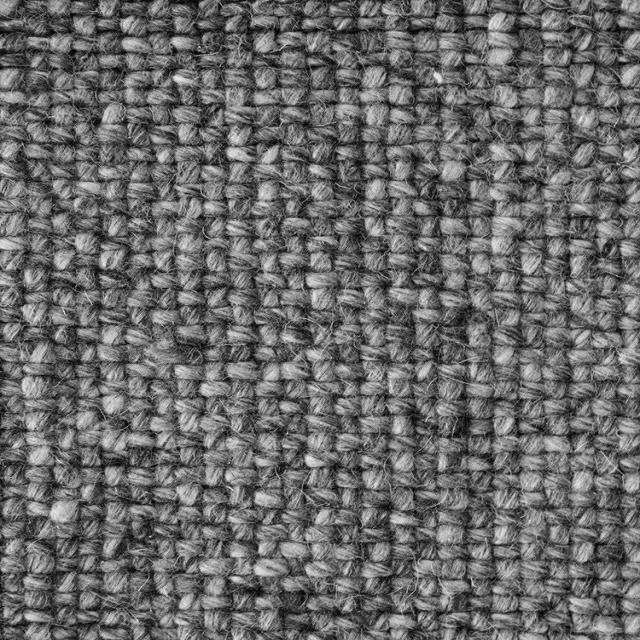Knot: (226, 252, 260, 272), (98, 124, 129, 144), (225, 361, 257, 380), (332, 324, 362, 344), (174, 324, 204, 344), (490, 83, 516, 106), (439, 252, 468, 272), (488, 142, 517, 162), (250, 558, 286, 574), (518, 254, 544, 276), (570, 142, 596, 164), (50, 500, 78, 520), (22, 376, 50, 396), (281, 324, 309, 344), (174, 250, 202, 270), (540, 162, 568, 182), (542, 86, 570, 106), (489, 162, 517, 182), (358, 30, 386, 50), (280, 160, 308, 180), (332, 104, 360, 124), (98, 104, 126, 124), (566, 218, 595, 237), (308, 68, 334, 89), (150, 124, 176, 145), (438, 217, 470, 234), (22, 554, 52, 572), (224, 539, 254, 557), (440, 488, 467, 508), (306, 488, 336, 506), (252, 488, 282, 506), (438, 470, 468, 488), (223, 467, 253, 485), (24, 465, 54, 483), (360, 416, 390, 434), (278, 414, 308, 432), (144, 343, 174, 361), (26, 342, 53, 362), (491, 326, 518, 346), (124, 252, 154, 270), (386, 216, 416, 234), (570, 104, 597, 124), (514, 64, 541, 84), (227, 124, 254, 144), (441, 289, 469, 308), (227, 287, 255, 306), (332, 251, 360, 270), (491, 216, 519, 235), (224, 105, 252, 124), (224, 68, 252, 87), (0, 498, 24, 520), (570, 64, 592, 88), (565, 277, 596, 294), (280, 396, 309, 414), (541, 124, 570, 142), (226, 486, 252, 506), (306, 468, 332, 488), (0, 342, 26, 362), (306, 250, 332, 270), (490, 122, 516, 142), (440, 161, 466, 181), (385, 159, 411, 179), (362, 104, 388, 124), (0, 104, 27, 123), (357, 508, 389, 524), (307, 380, 339, 396), (411, 308, 443, 324), (302, 200, 334, 216), (434, 525, 464, 542), (435, 363, 465, 380), (252, 306, 282, 323), (74, 571, 98, 592), (542, 544, 570, 562), (492, 490, 520, 508), (176, 484, 200, 505), (334, 470, 362, 488), (308, 451, 336, 469), (438, 435, 466, 453), (226, 431, 254, 449), (438, 416, 466, 434), (542, 398, 570, 416), (438, 344, 466, 362), (306, 344, 334, 362), (592, 330, 620, 348), (307, 288, 335, 306), (176, 288, 204, 306), (98, 270, 126, 288), (543, 254, 567, 275), (490, 255, 518, 273), (278, 252, 306, 270), (517, 236, 545, 254), (97, 233, 125, 251), (100, 198, 128, 216), (543, 66, 571, 84), (252, 163, 280, 181), (282, 123, 306, 144), (176, 123, 200, 144), (122, 324, 147, 344), (568, 254, 593, 274), (464, 104, 489, 124), (0, 68, 25, 88), (174, 396, 205, 412), (279, 362, 310, 378), (74, 305, 100, 324), (568, 29, 594, 48), (517, 29, 543, 48), (388, 124, 414, 143), (332, 31, 358, 50), (361, 490, 390, 507), (491, 434, 518, 452), (0, 33, 27, 51), (254, 467, 277, 488), (616, 66, 639, 87), (304, 560, 334, 576), (198, 558, 228, 574), (98, 556, 128, 572), (360, 542, 390, 558), (253, 524, 285, 539), (227, 508, 257, 524), (24, 500, 48, 520), (201, 486, 225, 506), (519, 470, 543, 490), (568, 432, 592, 452), (198, 380, 228, 396), (466, 324, 490, 344), (24, 304, 48, 324), (492, 291, 522, 307), (308, 272, 338, 288), (0, 250, 24, 270), (306, 234, 336, 250), (74, 196, 98, 216), (484, 48, 514, 64), (464, 66, 488, 86), (438, 65, 462, 85), (414, 140, 438, 160), (256, 180, 280, 200), (176, 182, 206, 198), (224, 146, 254, 162), (69, 0, 99, 16), (278, 541, 306, 558), (24, 411, 52, 428), (569, 182, 594, 201), (0, 213, 25, 232), (152, 163, 177, 182), (466, 542, 492, 560), (332, 542, 358, 560), (0, 520, 26, 538), (128, 504, 154, 522), (280, 468, 306, 486), (126, 466, 152, 484), (388, 452, 414, 470), (493, 398, 519, 416), (387, 395, 413, 413), (334, 396, 360, 414), (228, 396, 254, 414), (410, 378, 436, 396), (438, 325, 464, 343), (386, 325, 412, 343), (362, 252, 388, 270), (98, 252, 124, 270), (542, 218, 568, 236), (334, 216, 360, 234), (542, 184, 568, 202), (542, 48, 568, 66), (490, 182, 516, 200), (440, 124, 466, 142), (438, 104, 464, 122), (438, 86, 464, 104), (413, 162, 439, 180), (280, 180, 306, 198), (0, 178, 26, 196), (335, 161, 361, 179), (50, 162, 76, 180), (24, 160, 50, 178), (306, 106, 332, 124), (74, 144, 100, 162), (250, 32, 276, 50), (120, 16, 146, 34), (304, 524, 333, 540), (125, 362, 154, 378), (225, 344, 254, 360), (227, 326, 256, 342), (226, 182, 255, 198), (310, 323, 332, 344), (594, 66, 615, 88), (412, 558, 435, 578), (546, 470, 569, 490), (468, 470, 491, 490), (0, 463, 23, 483), (206, 324, 229, 344), (98, 324, 121, 344), (0, 304, 23, 324), (73, 232, 96, 252), (518, 86, 541, 106), (362, 178, 385, 198), (311, 161, 334, 181), (388, 435, 415, 452), (280, 432, 307, 449), (591, 364, 618, 381), (126, 234, 153, 251), (384, 68, 411, 85), (126, 181, 153, 198), (278, 590, 302, 609), (152, 288, 176, 307), (621, 139, 640, 163), (360, 216, 384, 235), (517, 181, 541, 200), (412, 31, 436, 50), (255, 105, 279, 124), (50, 105, 74, 124), (569, 507, 594, 525), (570, 472, 595, 490), (363, 470, 388, 488), (544, 452, 569, 470), (28, 446, 53, 464), (543, 434, 568, 452), (362, 434, 387, 452), (467, 416, 492, 434), (467, 397, 492, 415), (492, 346, 517, 364), (149, 308, 179, 323), (521, 276, 546, 294), (149, 270, 174, 288), (388, 252, 413, 270), (491, 236, 516, 254), (26, 234, 51, 252), (228, 198, 253, 216), (177, 198, 202, 216), (414, 122, 439, 140), (0, 141, 25, 159), (222, 51, 252, 66), (284, 614, 312, 630), (570, 526, 598, 542), (358, 526, 390, 540), (492, 508, 520, 524), (309, 416, 337, 432), (150, 414, 178, 430), (438, 398, 466, 414), (542, 364, 570, 380), (204, 306, 232, 322), (414, 271, 442, 287), (20, 272, 48, 288), (568, 238, 596, 254), (412, 234, 440, 250), (438, 200, 466, 216), (540, 13, 568, 29), (491, 106, 519, 122), (487, 31, 515, 47), (488, 13, 516, 29), (438, 182, 466, 198), (437, 48, 465, 64), (436, 32, 464, 48), (386, 181, 414, 197), (74, 181, 102, 197), (276, 146, 308, 160), (280, 70, 308, 86), (278, 33, 306, 49), (334, 560, 360, 577), (436, 380, 462, 397), (412, 345, 438, 362), (283, 306, 309, 323), (595, 184, 621, 201), (282, 217, 308, 234), (254, 218, 280, 235), (334, 142, 360, 159), (0, 377, 21, 398), (201, 464, 223, 484), (154, 464, 176, 484), (596, 452, 618, 472), (520, 325, 542, 345), (416, 324, 438, 344), (150, 323, 172, 343), (617, 28, 639, 48), (361, 66, 383, 86), (228, 162, 250, 182), (178, 162, 200, 182), (76, 104, 98, 124), (200, 67, 222, 87), (98, 33, 120, 53), (596, 489, 619, 508), (391, 488, 414, 507), (49, 305, 72, 324), (463, 382, 494, 396), (102, 574, 126, 592), (570, 542, 594, 560), (412, 541, 436, 559), (151, 522, 178, 538), (152, 486, 176, 504), (494, 471, 518, 489), (176, 465, 200, 483), (54, 465, 78, 483), (570, 453, 594, 471), (492, 452, 516, 470), (414, 452, 438, 470), (78, 448, 102, 466), (594, 432, 618, 450), (334, 434, 361, 450), (308, 432, 332, 450), (254, 431, 278, 449), (78, 430, 102, 448), (77, 411, 101, 429), (360, 396, 384, 414), (100, 360, 124, 378), (596, 296, 620, 314), (416, 288, 440, 306), (280, 288, 304, 306), (126, 288, 150, 306), (24, 251, 48, 269), (442, 234, 466, 252), (616, 164, 640, 182), (72, 216, 99, 232), (440, 142, 464, 160), (386, 32, 410, 50), (360, 142, 384, 160), (308, 180, 332, 198), (308, 34, 332, 52), (282, 50, 306, 68), (50, 125, 74, 143), (200, 104, 224, 122), (224, 88, 251, 104), (254, 68, 278, 86), (198, 32, 222, 50), (148, 34, 172, 52), (48, 34, 72, 52), (72, 16, 96, 34), (150, 557, 175, 574), (520, 525, 545, 542), (0, 412, 25, 429), (496, 380, 521, 397), (387, 288, 412, 305), (495, 274, 520, 291), (172, 594, 200, 609), (386, 578, 414, 593), (127, 570, 148, 590), (436, 509, 464, 524), (278, 510, 308, 524), (172, 364, 202, 378), (24, 362, 54, 376), (360, 345, 388, 360), (360, 308, 388, 323), (254, 272, 282, 287), (597, 104, 618, 124), (254, 201, 282, 216), (220, 0, 250, 14), (104, 502, 126, 521), (470, 251, 489, 273), (204, 251, 226, 270), (414, 104, 436, 123), (76, 124, 98, 143), (22, 608, 48, 624), (438, 543, 464, 559), (124, 539, 150, 555), (492, 526, 518, 542), (100, 522, 126, 538), (466, 509, 492, 525), (569, 491, 595, 507), (518, 453, 544, 469), (229, 450, 255, 466), (154, 448, 180, 464), (0, 447, 26, 463), (492, 416, 518, 432), (386, 362, 412, 378), (24, 325, 50, 341), (494, 308, 520, 324), (569, 294, 595, 310), (442, 272, 468, 288), (594, 258, 620, 274), (176, 234, 202, 250), (568, 202, 594, 218), (227, 218, 253, 234), (127, 164, 153, 180), (302, 0, 328, 16), (280, 106, 306, 122), (0, 124, 26, 140), (173, 106, 199, 122), (253, 88, 279, 104), (76, 538, 99, 556), (337, 488, 360, 506), (103, 466, 126, 484), (180, 447, 203, 465), (519, 434, 542, 452), (617, 416, 640, 434), (104, 413, 127, 431), (310, 396, 333, 414), (73, 342, 96, 360), (571, 311, 594, 329), (339, 288, 362, 306), (50, 270, 73, 288), (27, 196, 50, 214), (413, 66, 436, 84), (389, 106, 412, 124), (388, 86, 411, 104), (202, 164, 225, 182), (149, 104, 172, 122), (26, 70, 49, 88), (147, 16, 170, 34), (522, 614, 546, 631), (595, 544, 619, 561), (78, 502, 102, 519), (441, 453, 465, 470), (337, 451, 361, 468), (282, 450, 306, 467), (334, 344, 358, 361), (177, 270, 201, 287), (414, 253, 438, 270), (128, 199, 152, 216), (544, 144, 568, 161), (336, 181, 360, 198), (102, 144, 126, 161), (202, 124, 226, 141), (172, 68, 196, 85), (48, 53, 72, 70), (278, 575, 307, 589), (253, 381, 282, 395), (306, 90, 335, 104), (493, 614, 520, 629), (620, 472, 640, 492), (467, 453, 492, 469), (202, 414, 227, 430), (591, 398, 616, 414), (364, 324, 384, 344), (258, 324, 278, 344), (596, 274, 616, 294), (363, 271, 388, 287), (614, 48, 639, 64), (598, 142, 618, 162), (388, 50, 413, 66), (335, 52, 360, 68), (27, 143, 52, 159), (130, 124, 150, 144), (199, 88, 224, 104), (251, 14, 276, 30), (0, 52, 25, 68), (620, 236, 639, 257), (548, 614, 570, 632), (176, 556, 198, 574), (334, 524, 356, 542), (28, 520, 50, 538), (282, 488, 304, 506), (468, 434, 490, 452), (54, 429, 76, 447), (392, 416, 414, 434), (126, 412, 148, 430), (520, 398, 542, 416), (414, 396, 436, 414), (21, 398, 54, 410), (52, 376, 74, 394), (468, 362, 490, 380), (258, 362, 280, 380), (122, 344, 144, 362), (570, 330, 592, 348), (546, 328, 568, 346), (204, 288, 226, 306), (102, 288, 124, 306), (52, 250, 74, 268), (520, 218, 542, 236), (28, 214, 50, 232), (466, 182, 488, 200), (415, 180, 437, 198), (335, 86, 357, 104), (256, 142, 278, 160), (388, 614, 416, 628), (439, 580, 467, 594), (200, 525, 228, 539), (386, 510, 414, 524), (98, 308, 126, 322), (435, 16, 463, 30), (380, 1, 408, 15), (307, 542, 330, 559), (103, 431, 126, 448), (362, 379, 385, 396), (76, 377, 99, 394), (517, 163, 540, 180), (0, 159, 23, 176), (72, 35, 95, 52), (360, 594, 386, 609), (492, 544, 518, 559), (50, 522, 76, 537), (126, 431, 152, 446), (26, 430, 52, 445), (360, 236, 386, 251), (360, 200, 386, 215), (303, 17, 329, 32), (176, 145, 202, 160), (170, 1, 196, 16), (0, 624, 24, 640), (438, 614, 470, 626), (146, 594, 170, 610), (598, 580, 622, 596), (570, 578, 594, 594), (522, 561, 546, 577), (176, 539, 200, 555), (150, 539, 174, 555), (0, 538, 24, 554), (544, 508, 568, 524), (310, 508, 334, 524), (176, 506, 200, 522), (544, 490, 568, 506), (26, 483, 50, 499), (78, 466, 102, 482), (362, 452, 386, 468), (128, 448, 152, 464), (102, 448, 126, 464), (54, 448, 78, 464), (544, 416, 568, 432), (520, 417, 544, 433), (254, 414, 278, 430), (178, 414, 202, 430), (53, 412, 77, 428), (254, 398, 278, 414), (616, 382, 640, 398), (336, 363, 360, 379), (518, 347, 542, 363), (177, 345, 201, 361), (75, 288, 99, 304), (519, 202, 543, 218), (203, 199, 227, 215), (572, 125, 596, 141), (466, 88, 490, 104), (386, 16, 410, 32), (308, 144, 332, 160), (128, 145, 152, 161), (256, 126, 280, 142), (174, 88, 198, 104), (98, 88, 122, 104), (26, 88, 50, 104), (74, 70, 98, 86), (196, 16, 220, 32), (172, 34, 196, 50), (74, 52, 98, 68), (620, 452, 640, 471), (128, 269, 148, 288), (154, 251, 174, 270), (546, 235, 566, 254), (205, 142, 224, 162), (416, 434, 437, 452), (125, 396, 152, 410), (491, 366, 518, 380), (413, 360, 434, 378), (75, 270, 96, 288), (619, 104, 640, 122), (175, 218, 202, 232), (542, 108, 569, 122), (519, 142, 540, 160), (358, 126, 385, 140), (359, 88, 386, 102), (99, 164, 126, 178), (0, 18, 27, 32), (596, 616, 621, 631), (228, 415, 253, 430), (467, 308, 492, 323), (229, 237, 254, 252), (493, 201, 518, 216), (154, 430, 176, 447), (206, 396, 228, 413), (340, 379, 362, 396), (312, 362, 334, 379), (52, 325, 74, 342), (310, 217, 332, 234), (198, 594, 229, 606), (596, 596, 619, 612), (307, 593, 330, 609), (0, 556, 23, 572), (52, 539, 75, 555), (334, 508, 357, 524), (596, 472, 619, 488), (390, 471, 413, 487), (228, 380, 251, 396), (546, 310, 569, 326), (203, 271, 226, 287), (152, 218, 175, 234), (101, 216, 124, 232), (153, 200, 176, 216), (335, 124, 358, 140), (335, 70, 358, 86), (310, 126, 333, 142), (100, 70, 123, 86), (232, 612, 258, 626), (568, 596, 594, 610), (336, 578, 362, 592), (200, 577, 226, 591), (174, 576, 200, 590), (360, 562, 386, 576), (102, 486, 128, 500), (542, 382, 568, 396), (100, 380, 126, 394), (566, 349, 592, 363), (308, 308, 334, 322), (280, 236, 306, 250), (0, 197, 26, 211), (568, 14, 594, 28), (436, 0, 462, 14), (387, 144, 413, 158), (360, 52, 386, 66), (146, 88, 172, 102), (254, 52, 280, 66), (222, 16, 248, 30), (621, 216, 640, 235), (100, 628, 130, 640), (26, 625, 50, 640), (259, 613, 283, 628), (52, 572, 72, 590), (619, 508, 639, 526), (156, 504, 176, 522), (178, 431, 202, 446), (0, 430, 24, 445), (416, 416, 436, 434), (78, 396, 102, 411), (284, 380, 308, 395), (176, 379, 196, 397), (204, 362, 224, 380), (127, 305, 147, 323), (522, 292, 542, 310), (470, 288, 490, 306), (364, 288, 384, 306), (600, 236, 618, 256), (386, 236, 410, 251), (615, 13, 639, 28), (595, 162, 615, 180), (594, 46, 614, 64), (417, 216, 437, 234), (544, 202, 568, 217), (412, 199, 436, 214), (466, 142, 486, 160), (466, 30, 486, 48), (358, 1, 382, 16), (280, 88, 304, 103), (28, 124, 48, 142), (150, 68, 170, 86), (225, 34, 249, 49), (98, 53, 122, 68), (26, 52, 46, 70), (122, 36, 146, 51), (28, 34, 48, 52), (153, 181, 174, 198), (134, 610, 156, 626), (52, 607, 74, 623), (128, 556, 150, 572), (520, 544, 542, 560), (546, 526, 568, 542), (128, 522, 150, 538), (597, 509, 619, 525), (520, 508, 542, 524), (522, 491, 544, 507), (416, 490, 438, 506), (414, 472, 436, 488), (338, 416, 360, 432), (102, 395, 124, 411), (128, 380, 150, 396), (519, 364, 541, 380), (363, 362, 385, 378), (618, 348, 640, 364), (544, 347, 566, 363), (468, 346, 490, 362), (203, 344, 225, 360), (98, 344, 120, 360), (76, 327, 98, 343), (0, 325, 22, 341), (337, 307, 359, 323), (258, 288, 280, 304), (618, 278, 640, 294), (470, 274, 492, 290), (390, 272, 412, 288), (338, 271, 360, 287), (284, 271, 306, 287), (74, 252, 96, 268), (596, 220, 618, 236), (128, 217, 150, 233), (389, 198, 411, 214), (50, 198, 72, 214), (490, 66, 512, 82), (414, 88, 436, 104), (204, 182, 226, 198), (104, 182, 126, 198), (30, 181, 52, 197), (152, 146, 174, 162), (124, 88, 146, 104), (126, 70, 148, 86), (50, 71, 72, 87), (204, 612, 229, 626), (464, 596, 489, 610), (493, 578, 518, 592), (568, 382, 593, 396), (462, 14, 487, 28), (331, 16, 356, 30), (308, 53, 333, 67), (203, 507, 226, 522), (256, 451, 279, 466), (0, 287, 23, 302), (468, 200, 491, 215), (278, 16, 301, 31), (74, 88, 97, 103), (172, 17, 195, 32), (130, 486, 149, 504), (621, 258, 640, 276), (52, 232, 70, 251), (78, 520, 98, 537), (232, 306, 252, 323), (182, 306, 202, 323), (598, 124, 618, 141), (52, 626, 78, 639), (517, 597, 543, 610), (177, 610, 201, 624), (76, 610, 100, 624), (102, 593, 126, 607), (48, 592, 72, 606), (0, 590, 24, 604), (0, 575, 24, 589), (547, 560, 568, 576), (466, 561, 490, 575), (100, 538, 121, 554), (466, 527, 490, 541), (79, 484, 100, 500), (618, 434, 639, 450), (570, 416, 594, 430), (387, 378, 408, 394), (280, 346, 304, 360), (254, 346, 278, 360), (595, 314, 619, 328), (388, 306, 409, 322), (544, 294, 568, 308), (26, 290, 50, 304), (0, 234, 24, 248), (595, 202, 616, 218), (203, 218, 224, 234), (575, 88, 596, 104), (519, 108, 540, 124), (77, 163, 98, 179), (276, 0, 300, 14), (52, 88, 73, 104), (0, 88, 24, 102), (198, 52, 222, 66), (124, 54, 148, 68), (49, 18, 70, 34), (26, 573, 48, 588), (440, 560, 462, 575), (205, 450, 227, 465), (594, 348, 616, 363), (388, 345, 410, 360), (204, 236, 226, 251), (358, 16, 383, 29), (596, 380, 614, 398), (56, 343, 74, 361), (622, 330, 640, 348), (622, 296, 640, 314), (597, 29, 616, 46), (571, 562, 594, 576), (390, 526, 413, 540), (467, 236, 490, 250), (570, 166, 593, 180), (570, 50, 593, 64), (518, 126, 541, 140), (414, 51, 437, 65), (150, 54, 173, 68), (152, 574, 172, 590), (256, 541, 276, 557), (201, 540, 221, 556), (618, 492, 638, 508), (470, 492, 490, 508), (204, 432, 224, 448), (570, 398, 590, 414), (52, 288, 72, 304), (338, 234, 358, 250), (154, 234, 174, 250), (622, 182, 638, 202), (466, 164, 486, 180), (363, 162, 383, 178), (53, 145, 73, 161), (128, 106, 148, 122), (28, 106, 48, 122), (28, 16, 48, 32), (227, 576, 251, 589), (616, 202, 640, 215), (590, 0, 616, 12), (514, 50, 540, 62), (516, 14, 540, 27), (252, 593, 274, 607), (544, 578, 566, 592), (496, 561, 518, 575), (28, 540, 50, 554), (616, 400, 638, 414), (55, 396, 77, 410), (152, 380, 174, 394), (76, 362, 98, 376), (228, 272, 250, 286), (618, 88, 640, 102), (544, 32, 566, 46), (412, 17, 434, 31), (175, 52, 197, 66), (546, 276, 564, 293), (282, 199, 300, 216), (231, 558, 250, 574), (600, 526, 619, 542), (154, 396, 173, 412), (361, 614, 386, 626), (77, 592, 97, 607), (620, 528, 640, 543), (52, 486, 77, 498), (523, 381, 543, 396), (464, 49, 484, 64), (231, 524, 252, 538), (444, 308, 465, 322), (618, 124, 639, 138), (337, 200, 358, 214), (336, 615, 360, 627), (414, 597, 438, 609), (468, 580, 492, 592), (620, 562, 638, 578), (0, 484, 24, 496), (622, 366, 640, 382), (621, 314, 639, 330), (520, 312, 544, 324), (0, 270, 18, 286), (254, 238, 278, 250), (472, 218, 490, 234), (52, 216, 70, 232), (0, 398, 22, 411), (76, 556, 95, 571), (574, 616, 594, 630), (472, 613, 492, 627), (418, 613, 438, 627), (0, 608, 20, 622), (494, 596, 514, 610), (127, 594, 147, 608), (416, 578, 436, 592), (596, 563, 616, 577), (389, 560, 409, 574), (56, 556, 76, 570), (414, 526, 434, 540), (416, 510, 436, 524), (595, 416, 615, 430), (2, 362, 22, 376), (596, 90, 616, 104), (469, 126, 489, 140), (98, 18, 118, 32), (544, 0, 567, 12), (623, 580, 640, 596), (152, 629, 179, 639), (620, 598, 638, 613), (622, 545, 640, 560), (392, 543, 410, 558), (572, 365, 590, 380), (596, 13, 614, 28), (54, 181, 72, 196), (390, 596, 409, 610), (231, 592, 250, 606), (104, 611, 128, 622), (334, 594, 356, 606), (310, 577, 332, 589), (618, 1, 640, 13), (155, 363, 172, 378), (80, 626, 98, 640), (624, 614, 638, 632), (440, 596, 458, 610), (521, 580, 542, 592), (366, 578, 384, 592), (180, 524, 198, 538), (260, 510, 278, 524), (262, 252, 276, 270), (180, 630, 204, 640), (131, 628, 151, 640), (314, 614, 334, 626), (570, 0, 590, 12), (156, 610, 173, 624), (26, 590, 43, 604), (286, 525, 303, 539), (362, 631, 388, 640), (55, 362, 73, 375), (520, 632, 548, 640), (548, 596, 564, 610), (288, 560, 304, 574), (340, 630, 362, 640), (234, 631, 261, 639), (492, 632, 518, 640), (443, 630, 466, 639), (420, 630, 440, 640), (285, 630, 305, 640), (256, 577, 274, 588), (468, 632, 492, 640), (206, 632, 232, 639), (390, 630, 408, 640), (550, 632, 572, 640), (599, 633, 623, 640), (572, 633, 596, 640), (264, 632, 284, 640), (305, 632, 322, 640), (322, 632, 338, 640), (408, 631, 420, 640), (626, 634, 640, 640), (198, 397, 198, 397)
